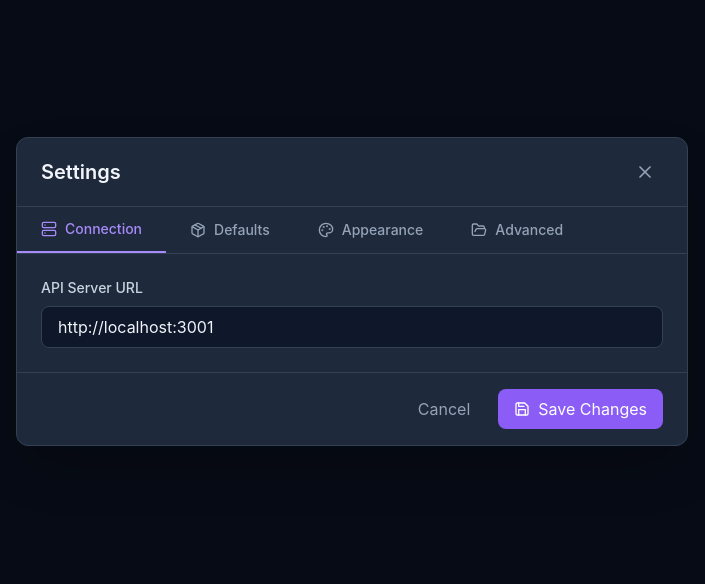
SettingsModal › loads instruction defaults from the API and filters path-specific entries
Click the button "Defaults" at (230, 230), box [166,206,294,252]
(page scrolled)
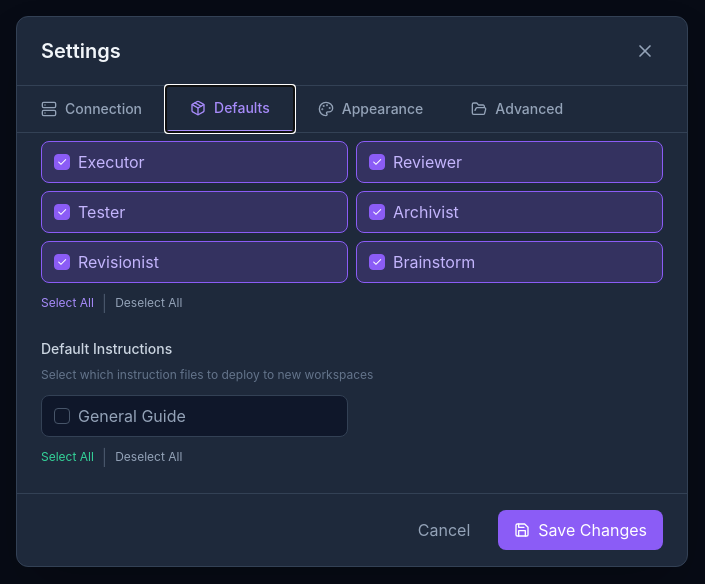
Expected: the text "General Guide" is shown, [78,404,186,428]
